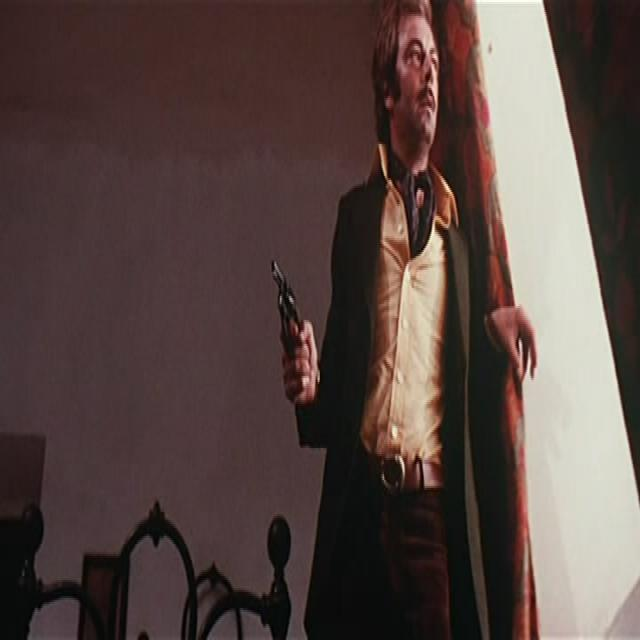gun-knife-thesis - v11 Yolov5 augmented: (258, 238, 318, 408)
